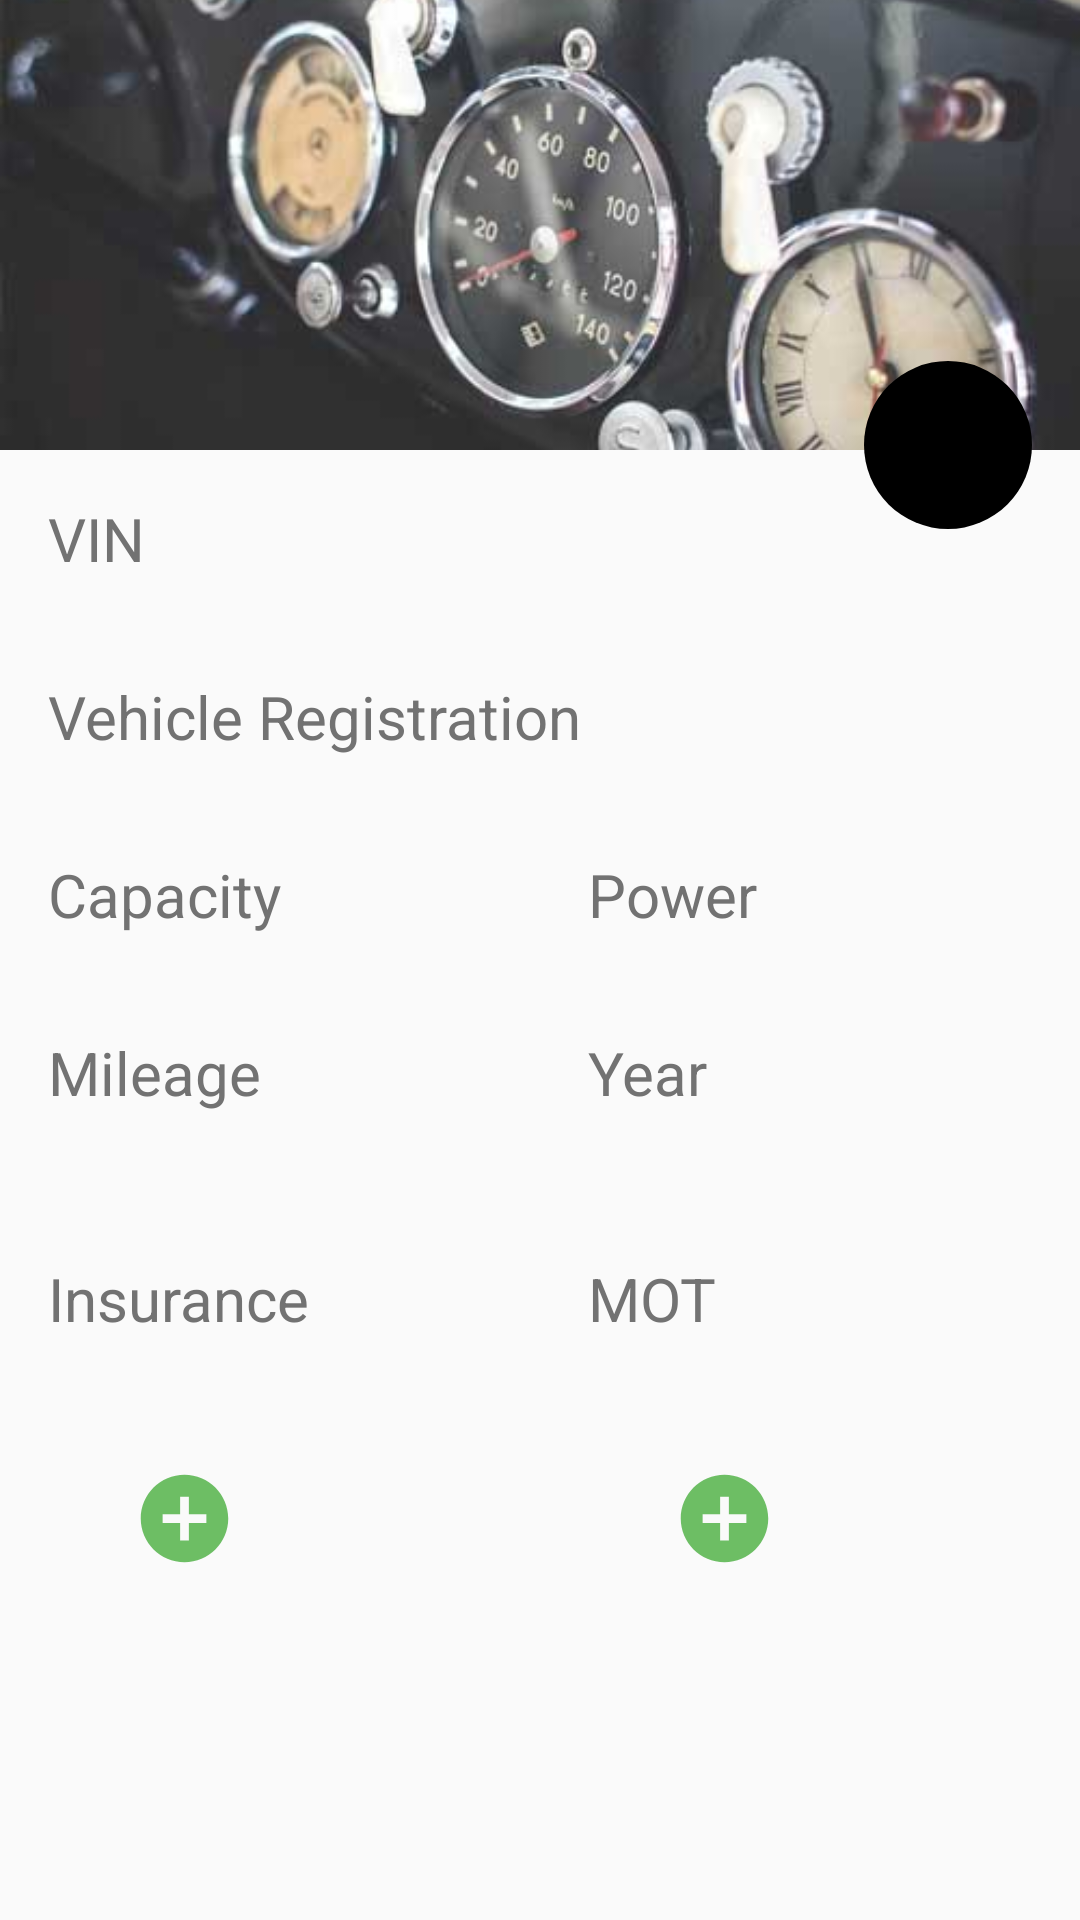

Where icons sit on this 1080×1920 app screen, as (x1, y1, x2, y2):
add circle: (140, 1474, 229, 1563), (680, 1474, 769, 1563)
